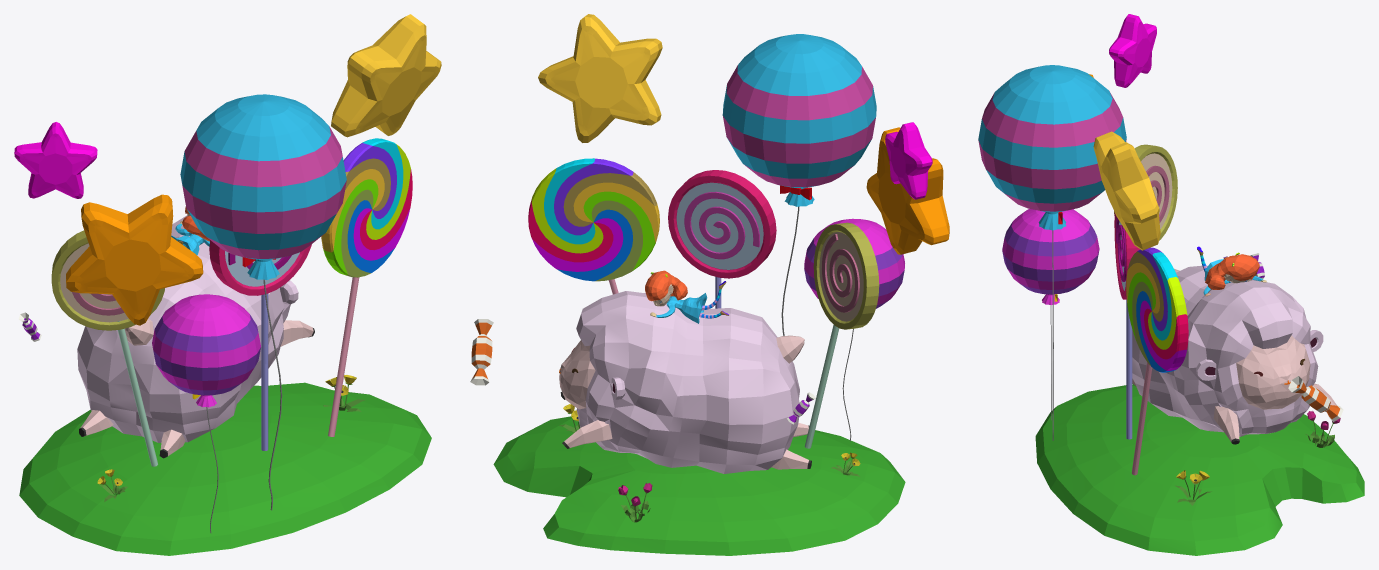
File: MianYang_chai.FBX
3 renders of one model, left to right at view 1: azimuth 30°, elevation 25°; view 2: azimuth 150°, elevation 25°; view 3: azimuth 270°, elevation 25°, orthographic. The views are drawn at different scales.
Visible parts, largest first — view 1: caoping, Object001, xiaoyang, xingxing3 (1), Object047, xingxing1 (1), Object005, xingxing2 (1), Object048, Object007, Object023, Object003 (+17 smaller); view 2: caoping, xiaoyang, Object001, xingxing1 (1), Object047, xingxing3 (1), bangbangtang2, Object003, Object007, xingxing2 (1), Object004, Object008 (+20 smaller); view 3: caoping, xiaoyang, Object001, Object047, xingxing1 (1), Object005, Object022, Object048, xingxing2 (1), Object044, bangbangtang1, Object017 (+18 smaller).
Part boxes in pixels (box(x1,y1,x2,y2)): caoping: box(19, 382, 431, 555); Object001: box(180, 94, 346, 279); xiaoyang: box(77, 215, 298, 442); xingxing3 (1): box(66, 194, 203, 325); Object047: box(181, 126, 346, 258); xingxing1 (1): box(331, 14, 441, 137); Object005: box(152, 294, 260, 407); xingxing2 (1): box(14, 122, 97, 198); Object048: box(153, 312, 260, 395); Object007: box(51, 230, 164, 330); Object023: box(79, 320, 314, 458); Object003: box(209, 240, 311, 295); caoping: box(493, 416, 905, 555); xiaoyang: box(576, 291, 799, 473); Object001: box(722, 34, 876, 206); xingxing1 (1): box(538, 14, 662, 142); Object047: box(723, 65, 875, 187); xingxing3 (1): box(866, 127, 949, 254); bangbangtang2: box(676, 182, 763, 270); Object003: box(668, 170, 776, 278); Object007: box(813, 222, 879, 329); xingxing2 (1): box(885, 122, 932, 199); Object004: box(684, 191, 759, 259); Object008: box(819, 232, 863, 321); caoping: box(1035, 384, 1364, 555); xiaoyang: box(1132, 265, 1323, 436); Object001: box(978, 65, 1126, 230); Object047: box(978, 91, 1126, 211); xingxing1 (1): box(1093, 131, 1160, 250); Object005: box(1002, 209, 1099, 305); Object022: box(1236, 335, 1310, 409); Object048: box(1002, 221, 1099, 294); xingxing2 (1): box(1109, 14, 1156, 87); Object044: box(1205, 254, 1259, 289); bangbangtang1: box(1148, 277, 1187, 349); Object017: box(1144, 308, 1188, 359).
Size of the model in its own units: 22.93 by 22.5 by 20.05.
